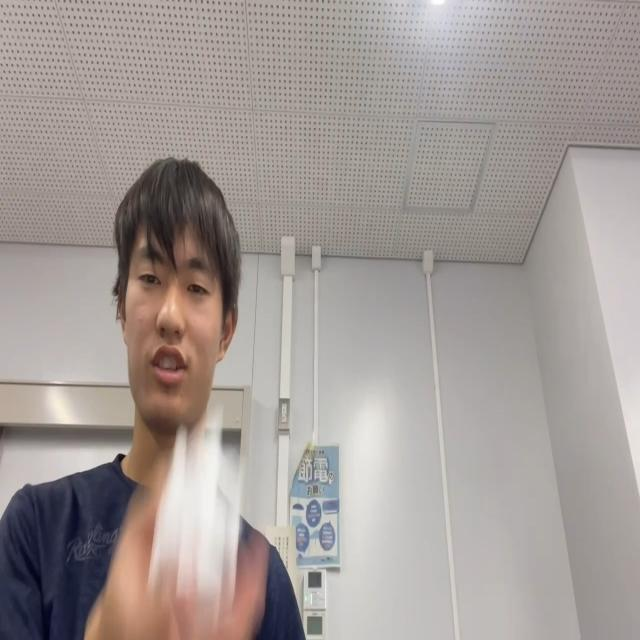paper: (146, 403, 243, 632)
